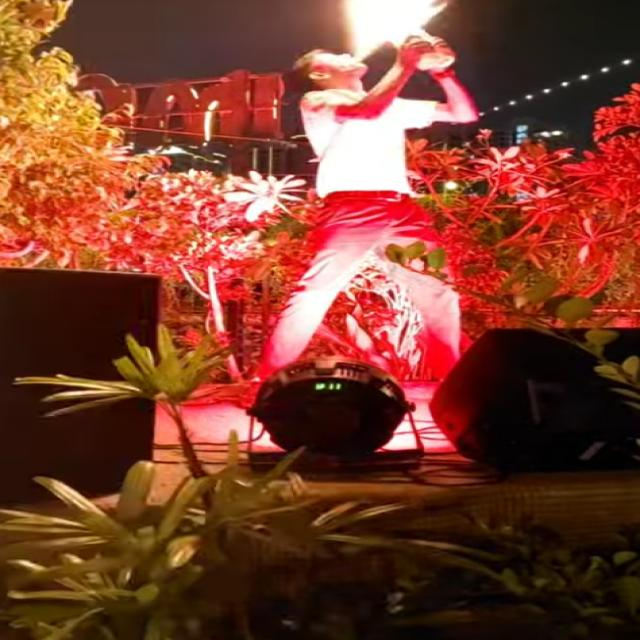fire: (342, 0, 449, 61)
